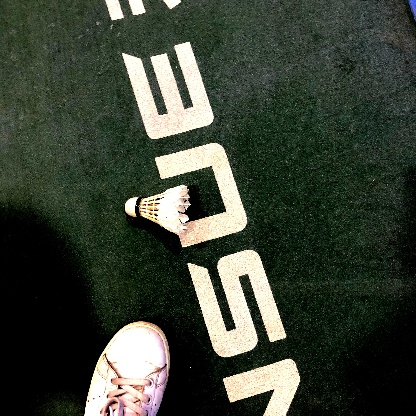ball_single: (125, 185, 191, 235)
